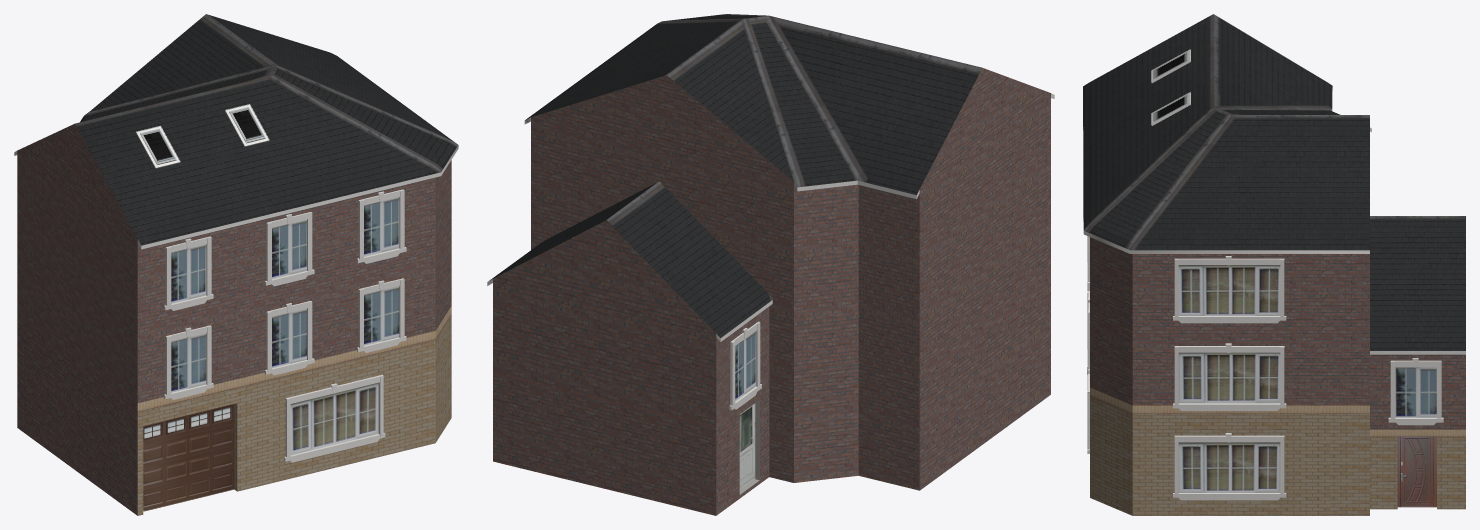
Rendered from terracedcorner3story1c.FBX.
The picture shows the model from 3 angles, left to right: view 1: azimuth 30°, elevation 25°; view 2: azimuth 150°, elevation 25°; view 3: azimuth 270°, elevation 25°; orthographic projection. The views are drawn at different scales.
Visible parts, largest first — view 1: Box004; view 2: Box004; view 3: Box004.
Part boxes in pixels (x1,y1,x2,y2): Box004: [14, 14, 458, 515]; Box004: [487, 14, 1054, 515]; Box004: [1083, 14, 1465, 515].
Size of the model in its own units: 1297 by 1258 by 1281.
